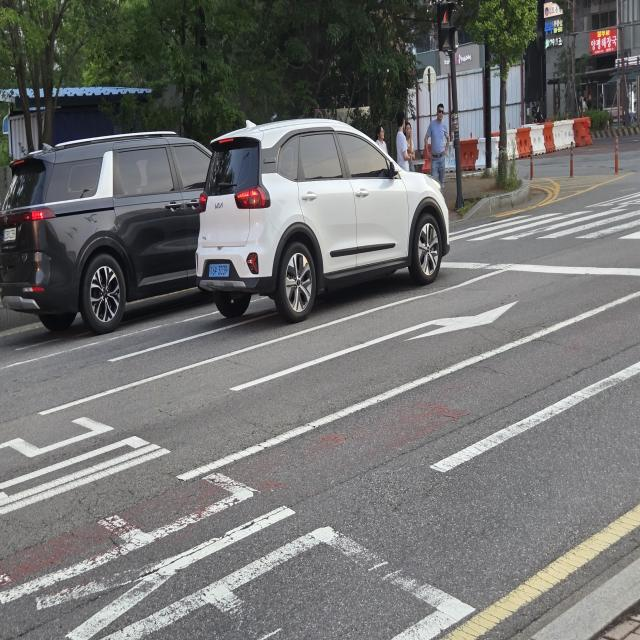car: (187, 103, 458, 341), (8, 117, 242, 369)
